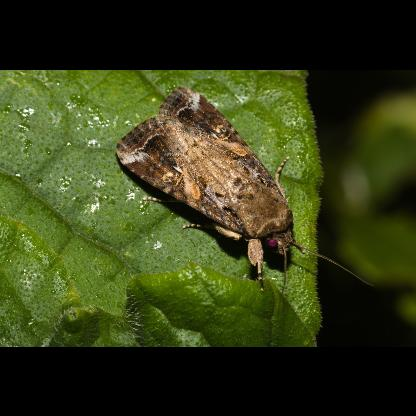Fall Armyworm Moth: (113, 82, 377, 320)
